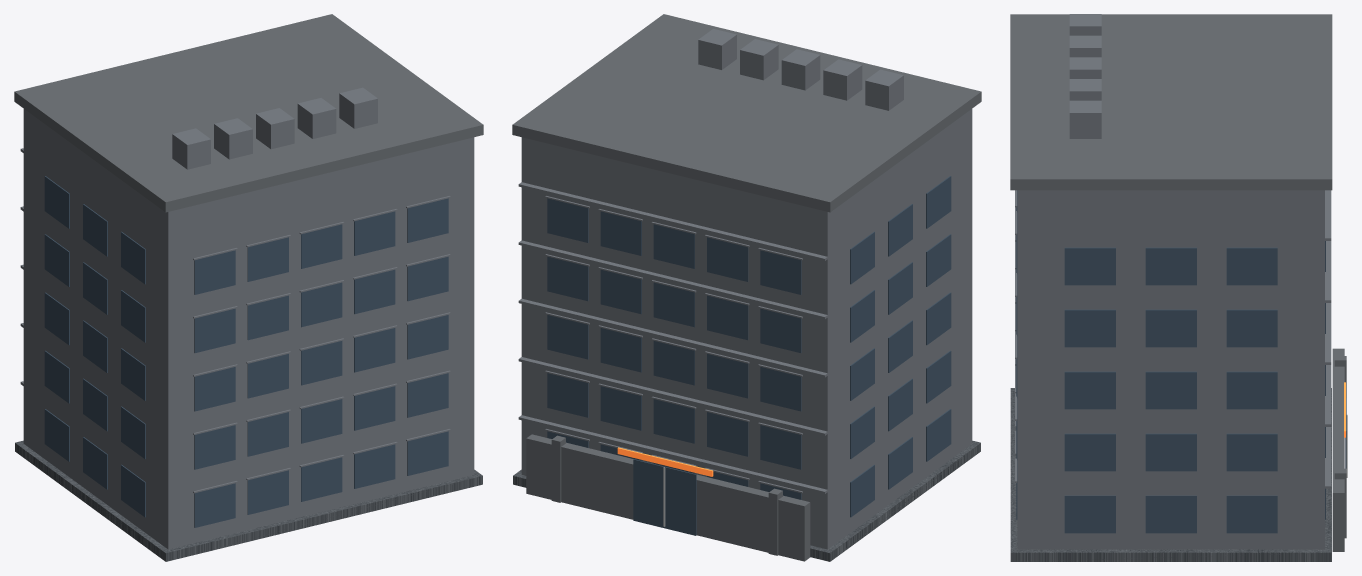
Rendered from exchange_hq.glb.
The picture shows the model from 3 angles, left to right: view 1: azimuth 30°, elevation 25°; view 2: azimuth 150°, elevation 25°; view 3: azimuth 270°, elevation 25°; orthographic projection. The views are drawn at different scales.
Parts seen in each view (by area): view 1: facade_2, roof_truss_138, foundation_1, inset_window_13, inset_window_15, inset_window_17, inset_window_40, inset_window_48, inset_window_71, inset_window_73, inset_window_121, inset_window_123 (+36 smaller); view 2: facade_2, roof_truss_138, ground_portico_140, glass_entry_141, foundation_1, horizontal_structural_band_29, horizontal_structural_band_83, horizontal_structural_band_110, horizontal_structural_band_137, horizontal_structural_band_56, inset_window_30, inset_window_38 (+41 smaller); view 3: facade_2, roof_truss_138, foundation_1, ground_portico_140, window_side_wall_24, window_side_wall_26, window_side_wall_28, window_side_wall_51, window_side_wall_53, window_side_wall_55, window_side_wall_78, window_side_wall_80 (+12 smaller).
Boxes of the visible parts, bbox=[...] form: facade_2: bbox=[23, 109, 474, 549]; roof_truss_138: bbox=[14, 14, 483, 212]; foundation_1: bbox=[15, 440, 482, 561]; inset_window_13: bbox=[194, 483, 235, 527]; inset_window_15: bbox=[247, 470, 288, 514]; inset_window_17: bbox=[301, 457, 342, 501]; inset_window_40: bbox=[194, 425, 235, 469]; inset_window_48: bbox=[407, 373, 448, 417]; inset_window_71: bbox=[301, 341, 342, 385]; inset_window_73: bbox=[354, 328, 395, 372]; inset_window_121: bbox=[194, 250, 235, 294]; inset_window_123: bbox=[247, 237, 288, 281]; facade_2: bbox=[521, 109, 972, 549]; roof_truss_138: bbox=[512, 14, 981, 212]; ground_portico_140: bbox=[526, 434, 810, 561]; glass_entry_141: bbox=[633, 459, 696, 535]; foundation_1: bbox=[513, 440, 980, 561]; horizontal_structural_band_29: bbox=[518, 415, 827, 494]; horizontal_structural_band_83: bbox=[518, 298, 827, 377]; horizontal_structural_band_110: bbox=[518, 240, 827, 319]; horizontal_structural_band_137: bbox=[518, 182, 827, 261]; horizontal_structural_band_56: bbox=[518, 357, 827, 435]; inset_window_30: bbox=[760, 425, 801, 469]; inset_window_38: bbox=[547, 373, 588, 417]; facade_2: bbox=[1017, 190, 1324, 549]; roof_truss_138: bbox=[1010, 14, 1332, 190]; foundation_1: bbox=[1010, 388, 1331, 561]; ground_portico_140: bbox=[1332, 348, 1344, 551]; window_side_wall_24: bbox=[1226, 495, 1277, 533]; window_side_wall_26: bbox=[1145, 495, 1196, 533]; window_side_wall_28: bbox=[1064, 495, 1115, 533]; window_side_wall_51: bbox=[1226, 433, 1277, 471]; window_side_wall_53: bbox=[1145, 433, 1196, 471]; window_side_wall_55: bbox=[1064, 433, 1115, 471]; window_side_wall_78: bbox=[1226, 371, 1277, 409]; window_side_wall_80: bbox=[1145, 371, 1196, 409].
Size of the model in its own units: 11.42 by 13.2 by 9.88.
Materials: 6 (1 with a texture image).
